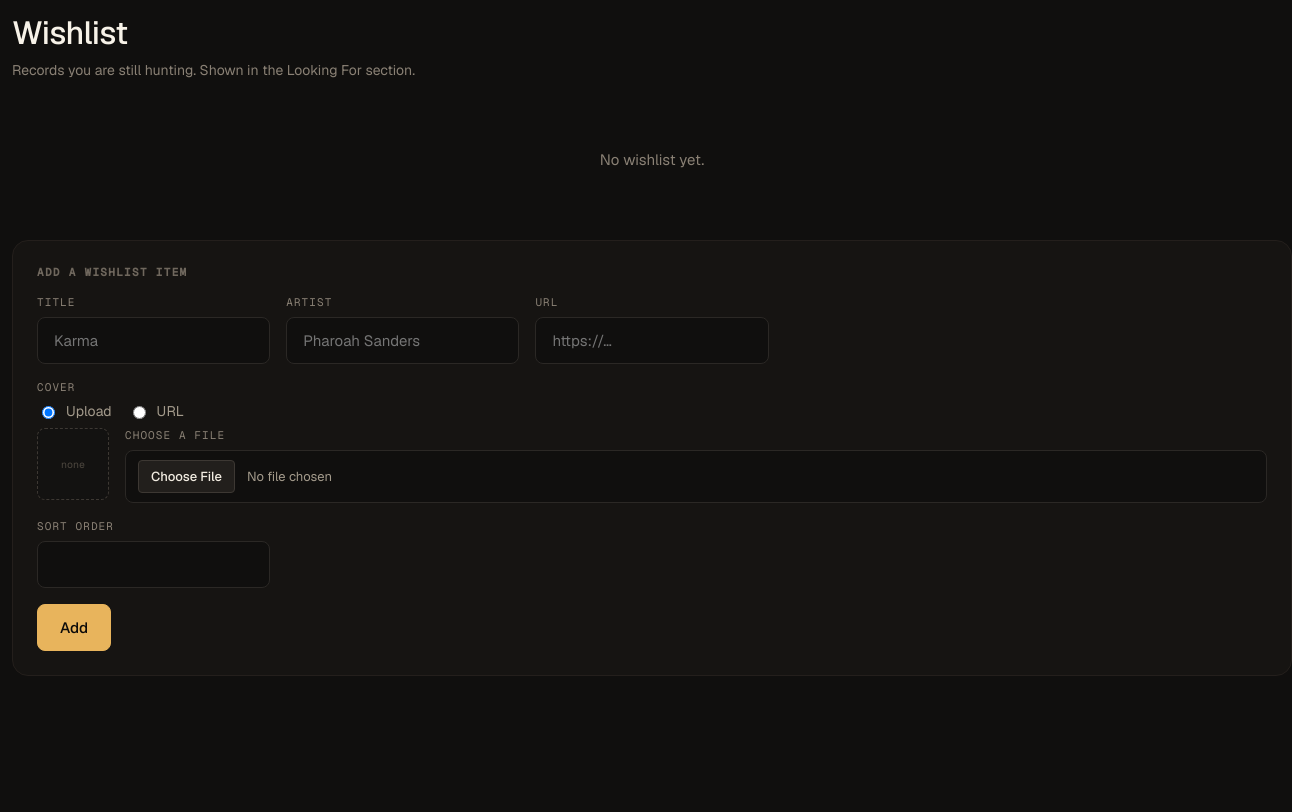
it: WishlistPage › renders server field errors against the matching input
Click the button "Add". click: coordinates (74, 628)
box: left=37, top=604, right=111, bottom=651
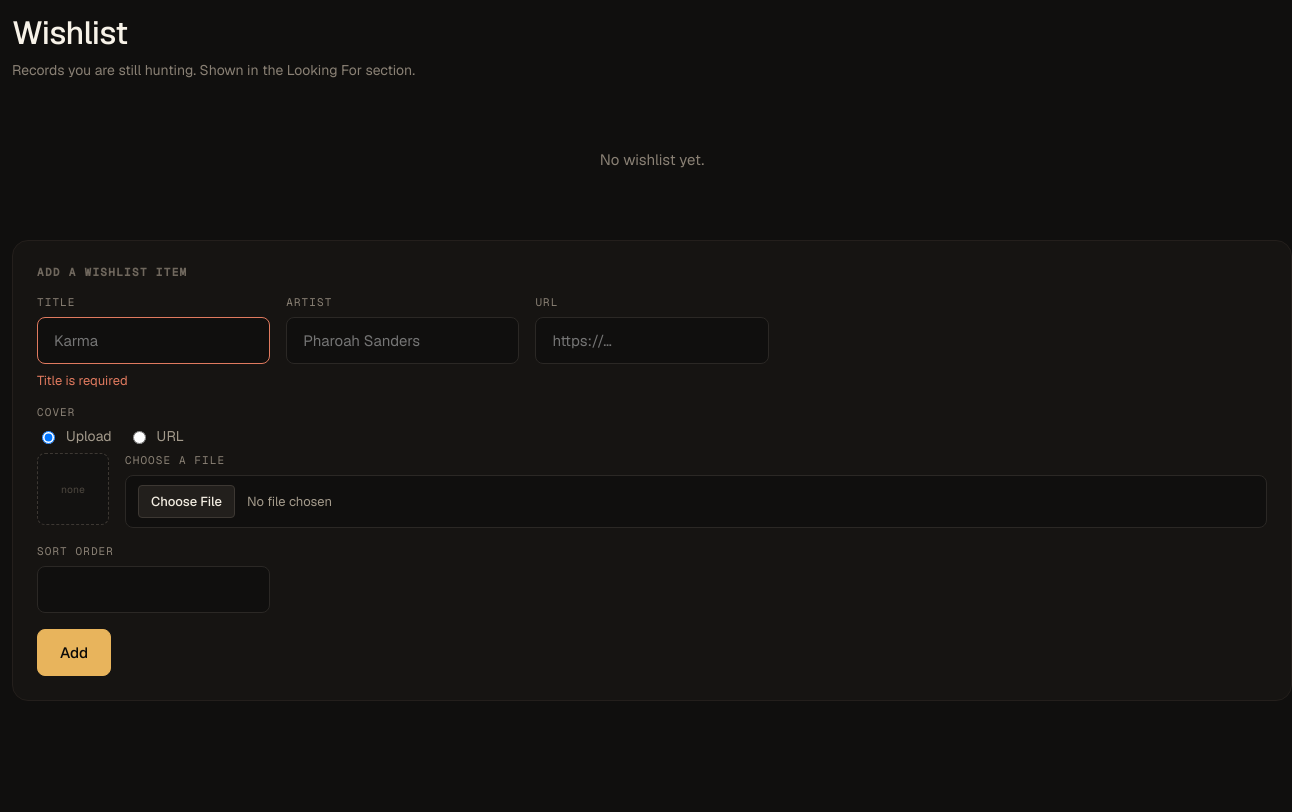
Expected: the message reads "Title is required", left=37, top=372, right=128, bottom=389
